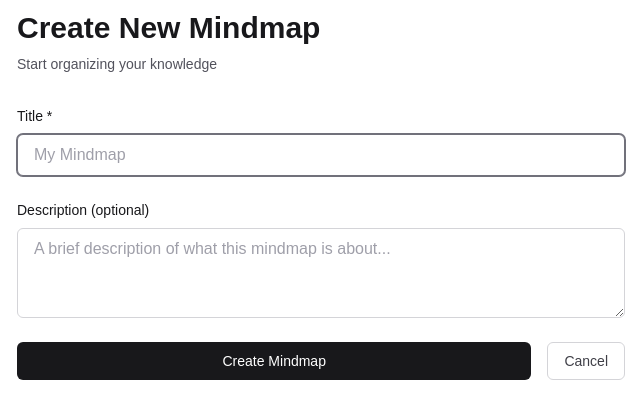
Test: New Mindmap Page › should disable inputs while creating
In the field labelled "Title *": (321, 155) left=17, top=134, right=625, bottom=176, type "Test"
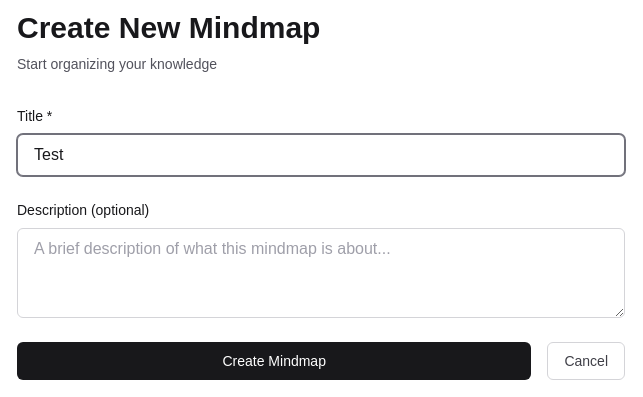
Click the button "Create Mindmap": (274, 361) left=17, top=342, right=531, bottom=380
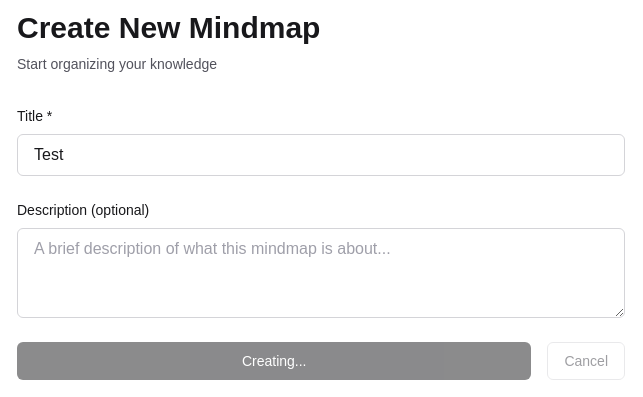
Check: the field labelled "Title *" is disabled, box left=17, top=134, right=625, bottom=176
Check: the button "Creating..." is disabled, box left=17, top=342, right=531, bottom=380
Check: the button "Cancel" is disabled, box left=547, top=342, right=625, bottom=380
